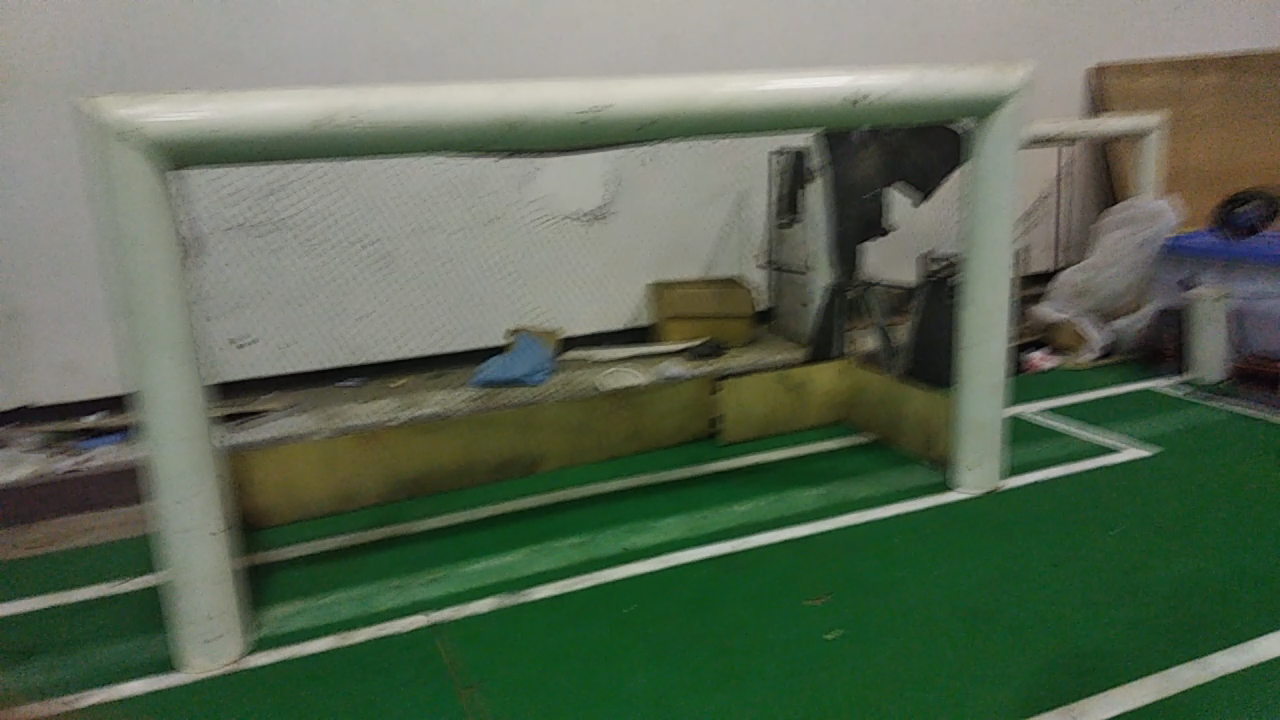gawang: (56, 54, 1051, 696)
